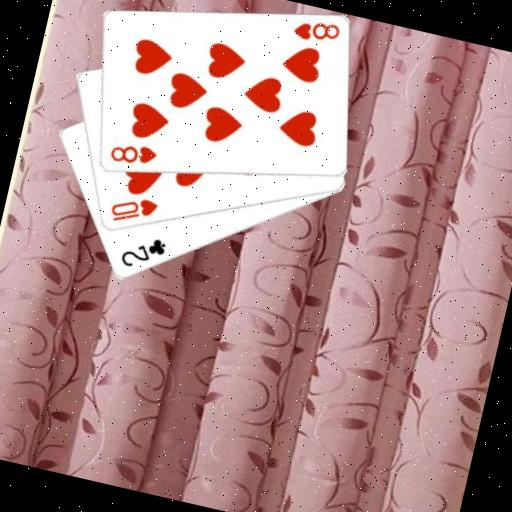10H: (105, 189, 161, 233)
2C: (116, 228, 170, 276)
8H: (105, 135, 160, 173), (288, 12, 343, 49)
